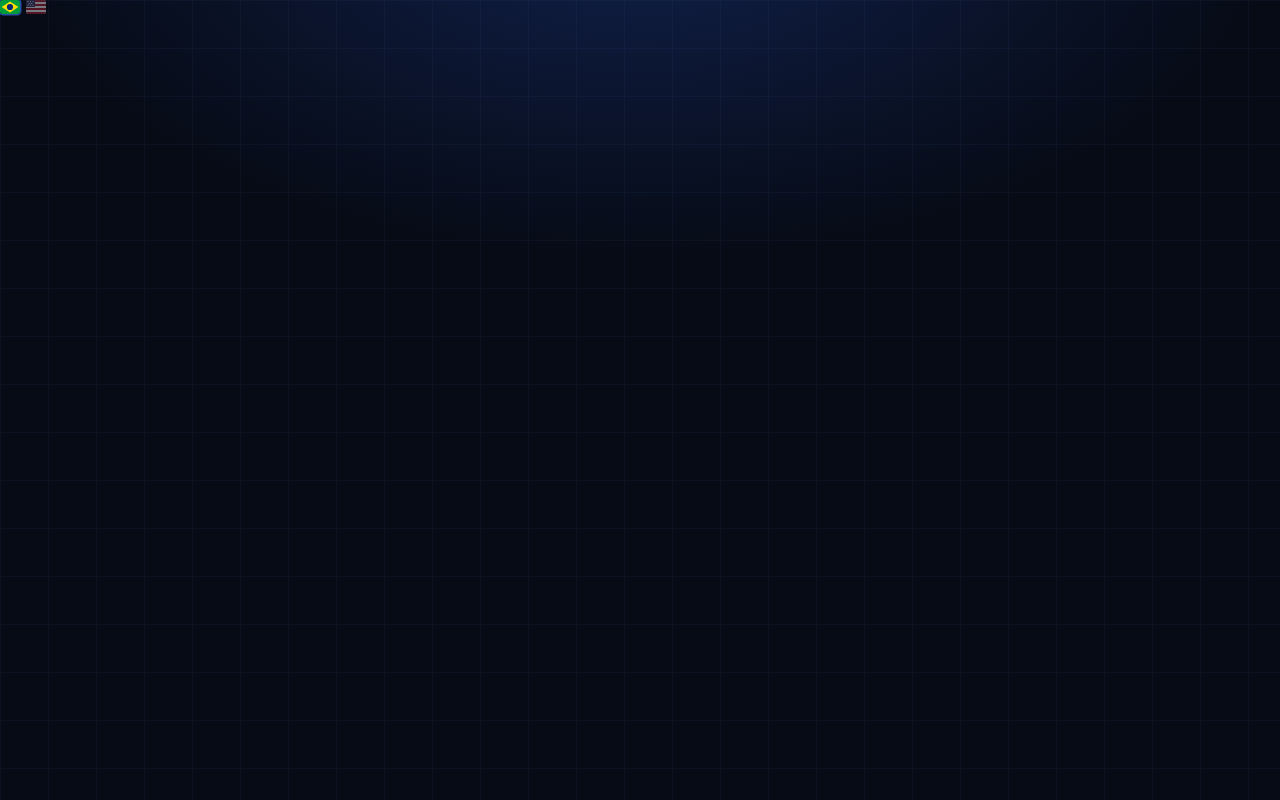
Test case: LanguageSwitcher › clicar na outra bandeira mostra o loading no idioma de destino
Click the button named "English".
click(36, 7)  # box x1=26 y1=0 x2=46 y2=14
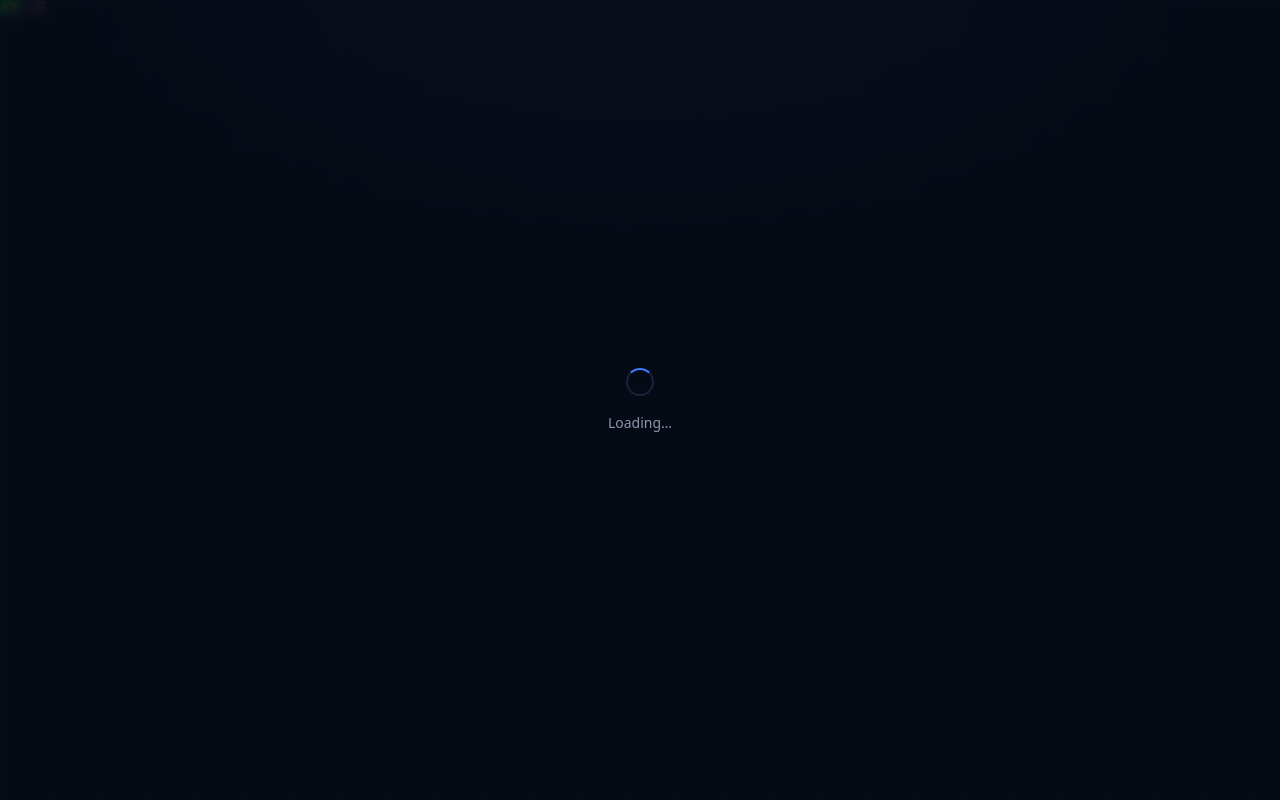
Check: the message reads "Loading…", box x1=608 y1=412 x2=672 y2=432
